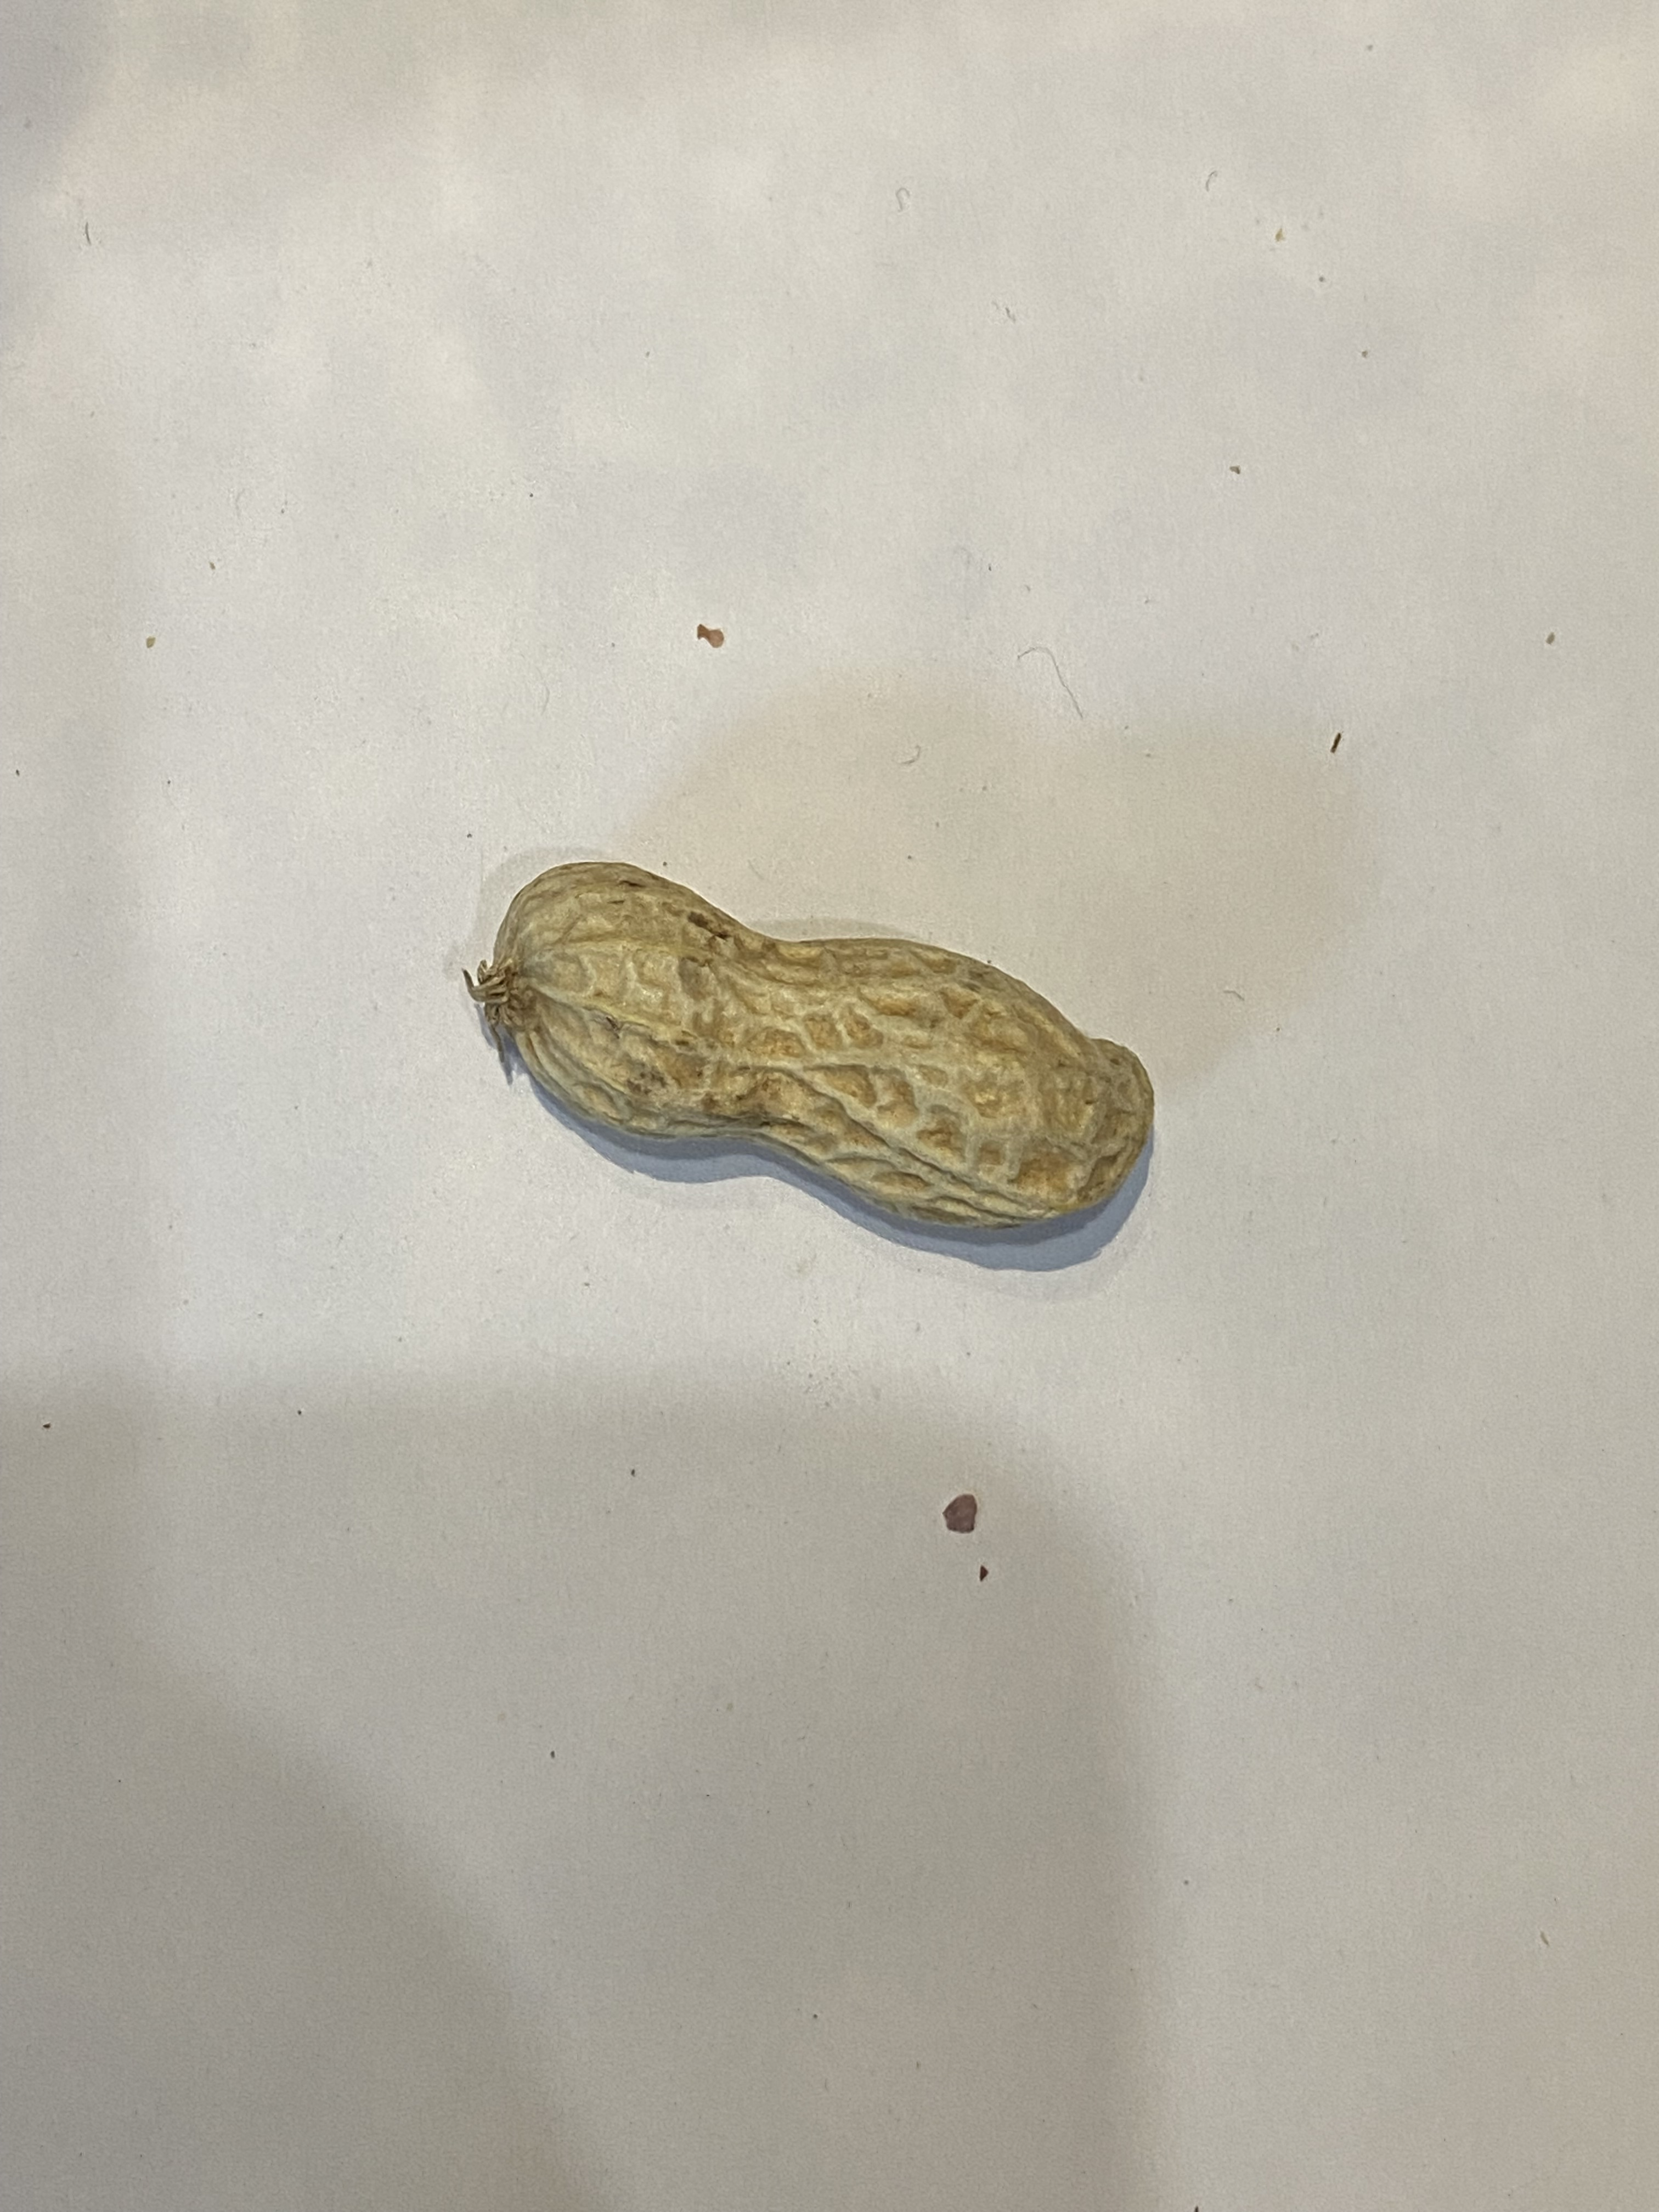kacang2: (467, 859, 1159, 1254)
